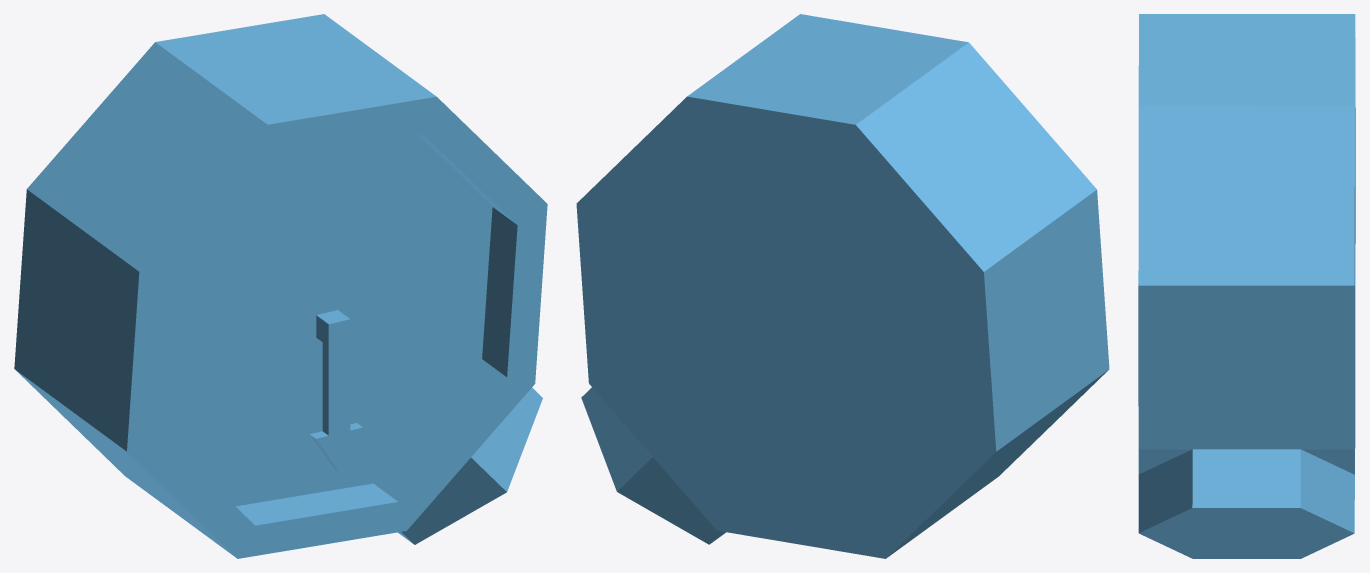
File: stampunk_engine_gauge_only.fbx
3 renders of one model, left to right at view 1: azimuth 30°, elevation 25°; view 2: azimuth 150°, elevation 25°; view 3: azimuth 270°, elevation 25°, orthographic. The views are drawn at different scales.
Parts seen in each view (by area): view 1: stampunk_engine_gauge_only; view 2: stampunk_engine_gauge_only; view 3: stampunk_engine_gauge_only.
Part boxes in pixels (x1,y1,x2,y2): stampunk_engine_gauge_only: (14, 14, 547, 558); stampunk_engine_gauge_only: (576, 14, 1109, 558); stampunk_engine_gauge_only: (1138, 14, 1355, 558).
Size of the model in its own units: 41.26 by 42.93 by 18.23.
